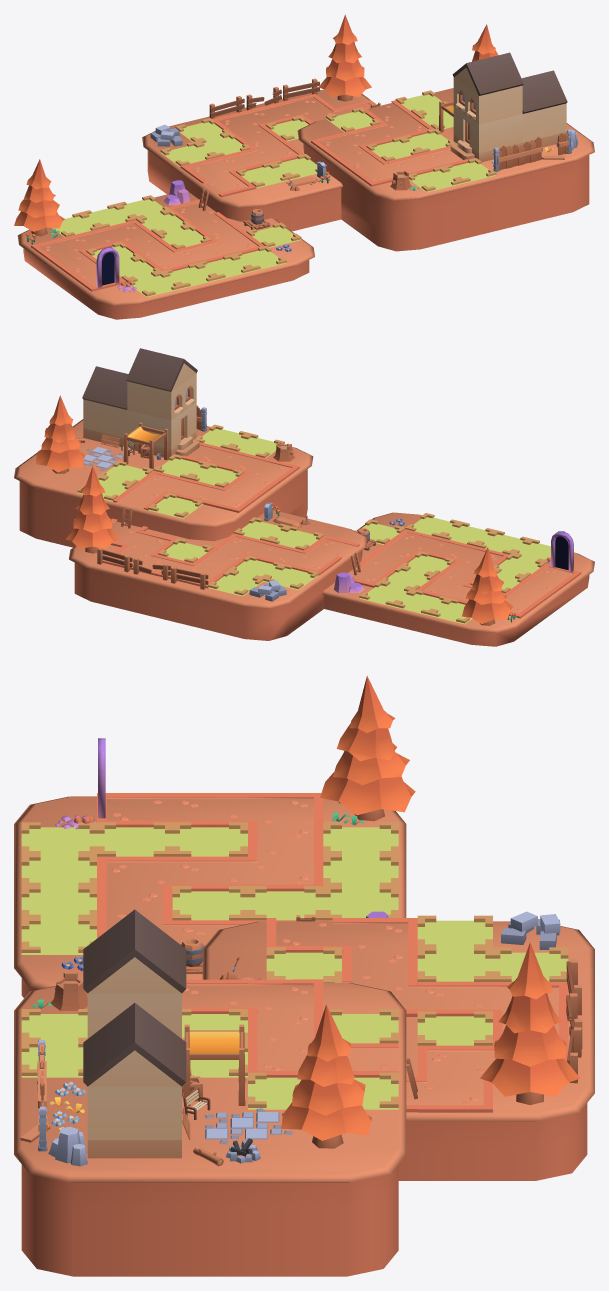
Rendered from Level.glb.
The picture shows the model from 3 angles, top to bottom: view 1: azimuth 30°, elevation 25°; view 2: azimuth 150°, elevation 25°; view 3: azimuth 270°, elevation 25°; orthographic projection. The views are drawn at different scales.
Visible parts, largest first — view 1: stage-3, stage-1, stage-2, building, stage-2-pine, stage-1-pine, fence, stage-1-tower-8, stage-3-tower-6, stage-1-tower-10, stage-3-tower-7, stage-1-tower-9 (+25 smaller); view 2: stage-2, stage-3, stage-1, building, stage-2-pine, stage-3-pine, stage-1-pine, structure, stage-2-tower-3, stage-3-tower-1, stage-1-tower-4, stage-1-tower-3 (+26 smaller); view 3: stage-3, stage-2, building, stage-1, stage-2-pine, stage-1-pine, stage-3-pine, structure, stage-1-tower-11, stage-1-tower-9, stage-1-tower-4, stage-2-tower-1 (+36 smaller).
Boxes of the visible parts, x1,y1,x2,y2 form: stage-3: (297, 88, 594, 251); stage-1: (17, 192, 314, 319); stage-2: (142, 89, 370, 231); building: (450, 52, 567, 162); stage-2-pine: (318, 14, 371, 101); stage-1-pine: (14, 159, 64, 236); fence: (498, 140, 533, 170); stage-1-tower-8: (127, 275, 181, 297); stage-3-tower-6: (409, 170, 460, 192); stage-1-tower-10: (201, 258, 251, 280); stage-3-tower-7: (446, 162, 496, 183); stage-1-tower-9: (166, 267, 216, 288); stage-2: (69, 510, 367, 640); stage-3: (14, 419, 313, 547); stage-1: (322, 512, 594, 646); building: (82, 348, 199, 457); stage-2-pine: (66, 466, 119, 553); stage-3-pine: (36, 395, 84, 473); stage-1-pine: (462, 547, 513, 625); structure: (123, 422, 168, 468); stage-2-tower-3: (208, 574, 262, 596); stage-3-tower-1: (148, 497, 202, 518); stage-1-tower-4: (395, 594, 445, 615); stage-1-tower-3: (360, 585, 410, 607); stage-3: (14, 983, 406, 1276); stage-2: (202, 921, 594, 1180); building: (83, 909, 186, 1158); stage-1: (14, 796, 406, 997); stage-2-pine: (480, 942, 580, 1104); stage-1-pine: (320, 676, 415, 821); stage-3-pine: (281, 1004, 371, 1148); structure: (184, 1024, 245, 1105); stage-1-tower-11: (21, 923, 96, 954); stage-1-tower-9: (21, 859, 96, 891); stage-1-tower-4: (323, 859, 398, 891); stage-2-tower-1: (417, 920, 492, 952).
Bounding box in the file's own units: 28.49 × 7.95 × 15.41.
Materials: 13 (10 with a texture image).
